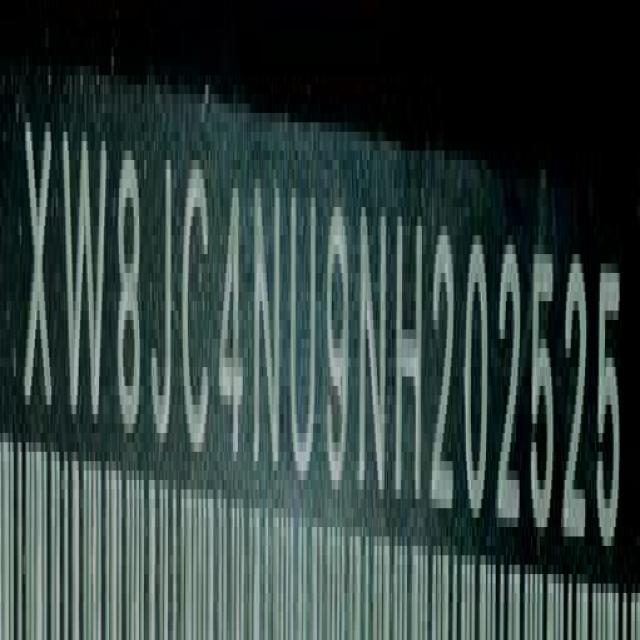0: (462, 233, 488, 536)
2: (431, 223, 457, 524), (563, 248, 588, 550), (500, 238, 525, 537)
4: (217, 167, 246, 478)
5: (600, 254, 624, 562), (531, 238, 555, 541)
8: (117, 141, 142, 444)
9: (327, 195, 349, 500)
C: (183, 161, 214, 468)
H: (398, 207, 426, 513)
J: (150, 153, 177, 440)
N: (251, 185, 284, 491), (361, 199, 388, 511)
U: (290, 180, 319, 492)
W: (62, 116, 108, 440)
X: (24, 96, 54, 425)
